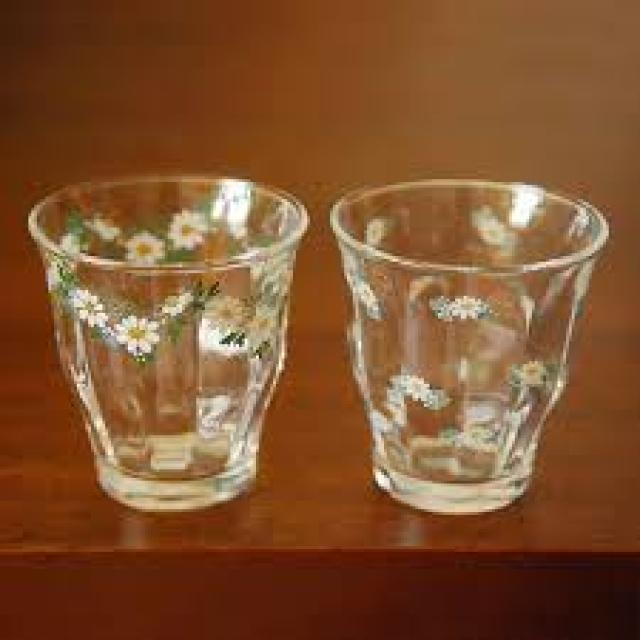glass: (23, 171, 304, 509), (327, 174, 603, 512)
